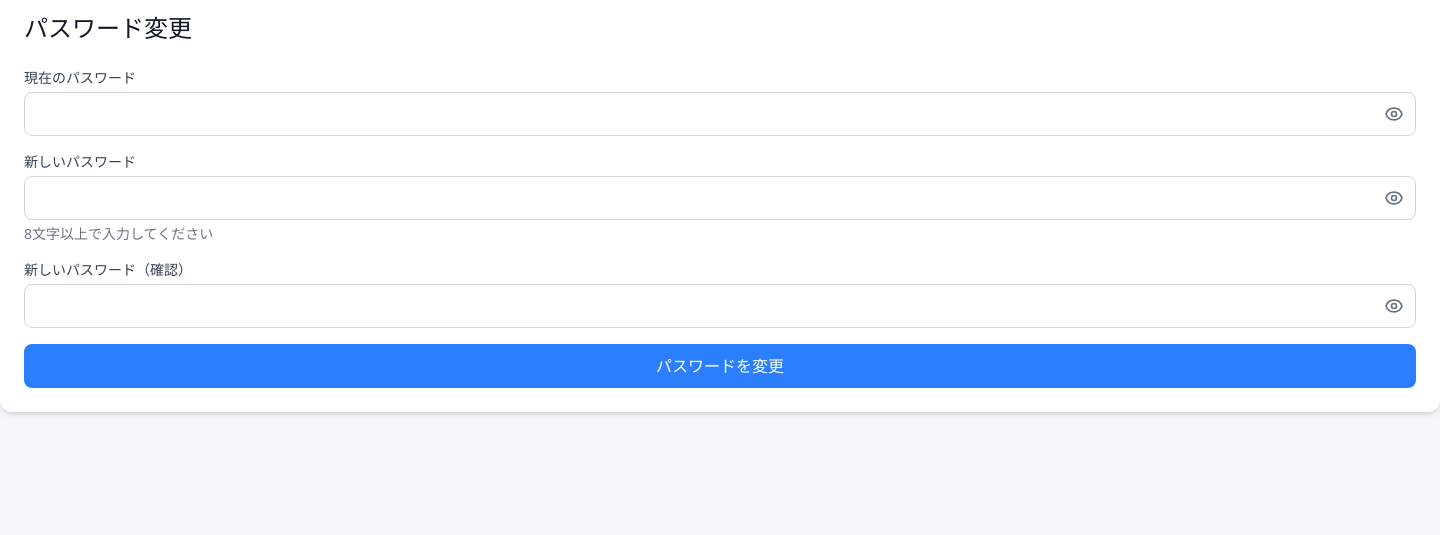
it: PasswordChangeForm › Validation › should show error when new password is less than 8 characters
This screenshot has width=1440, height=535.
In the password field labelled "現在のパスワード": (720, 114) [24,92,1416,136], type "oldpass123"
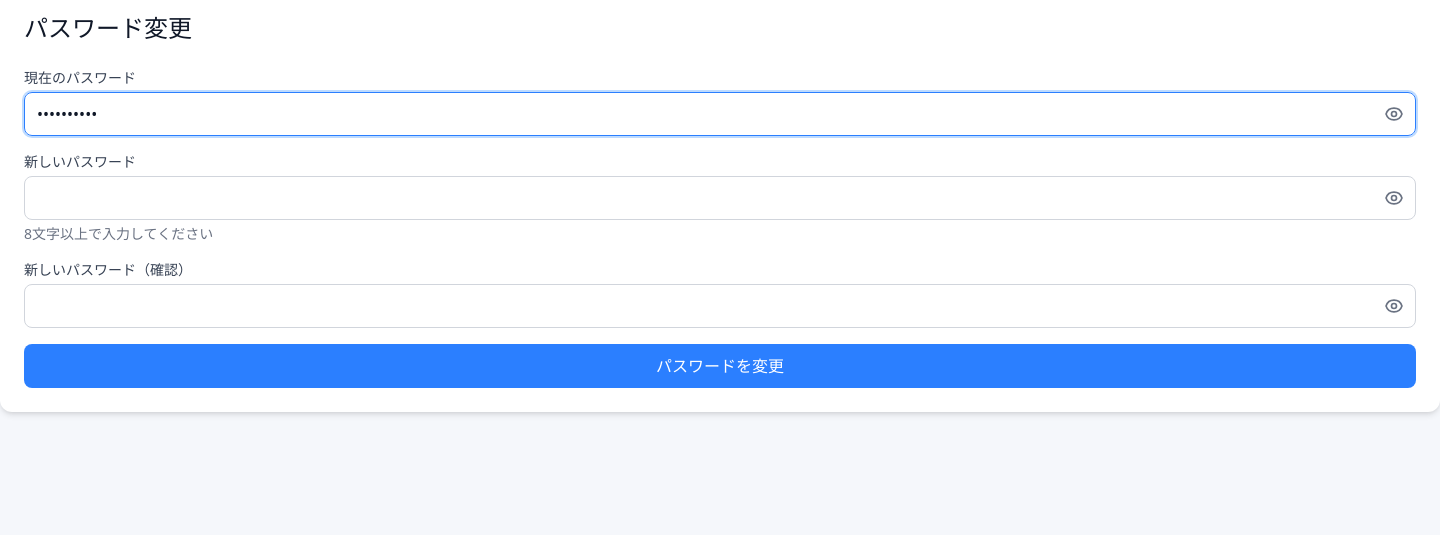
In the password field labelled "新しいパスワード": (720, 198) [24,176,1416,220], type "short"
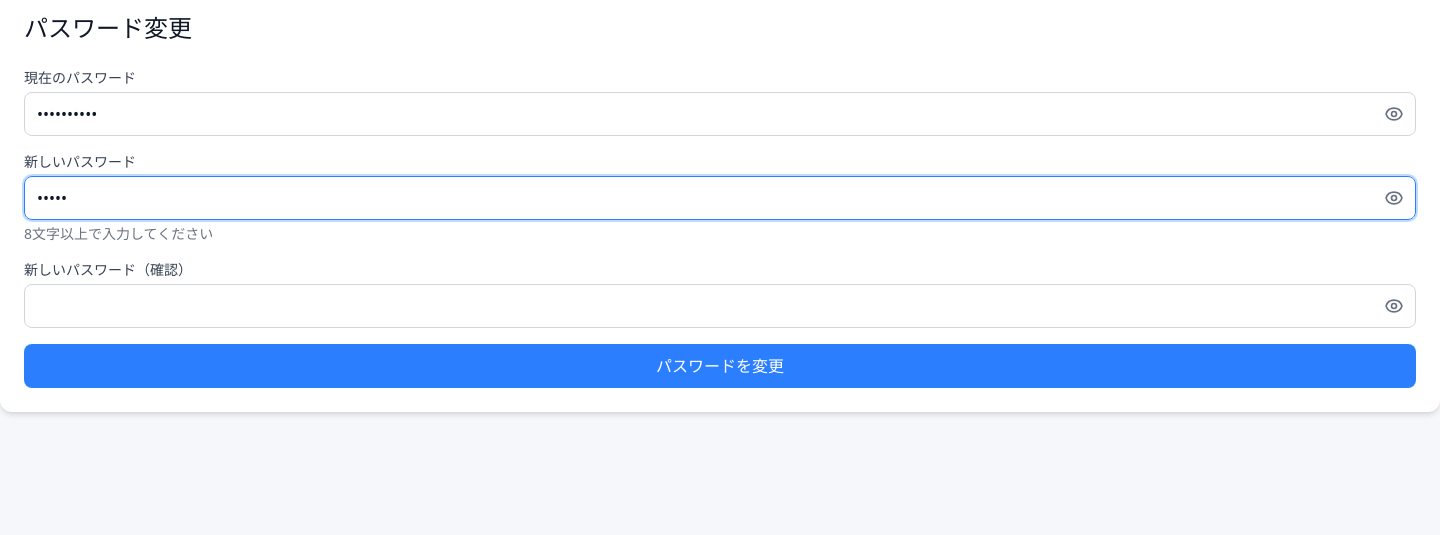
In the password field labelled "新しいパスワード（確認）": (720, 306) [24,284,1416,328], type "short"
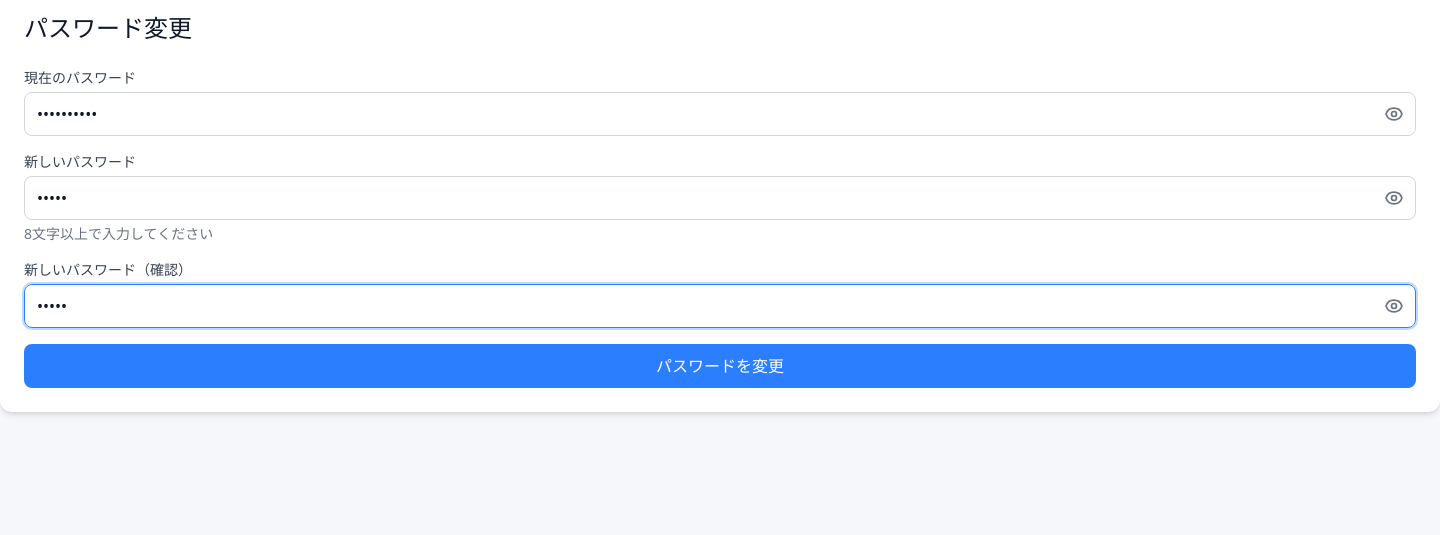
Click the button "パスワードを変更": click(720, 366) [24,344,1416,388]
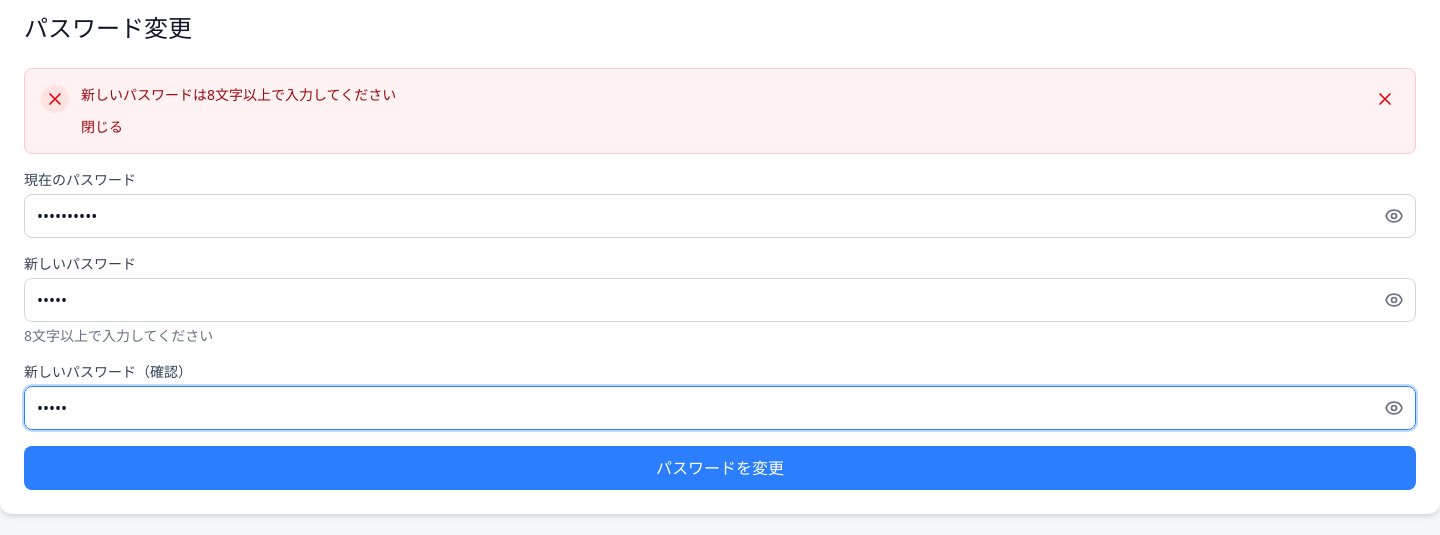
Check: the message shows "新しいパスワードは8文字以上で入力してください", box [81,85,396,104]
